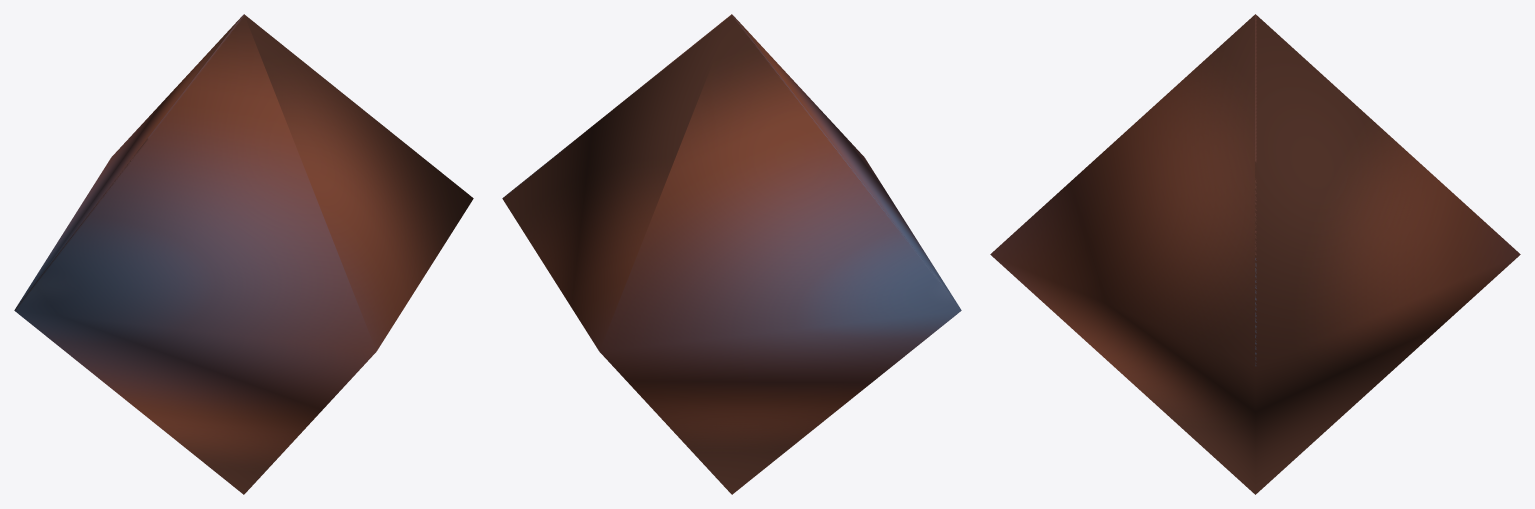
The model's file is terrain.dae.
3 renders of one model, left to right at view 1: azimuth 30°, elevation 25°; view 2: azimuth 150°, elevation 25°; view 3: azimuth 270°, elevation 25°, orthographic.
Parts seen in each view (by area): view 1: Sphere; view 2: Sphere; view 3: Sphere.
Boxes of the visible parts, x1,y1,x2,y2 form: Sphere: [14, 14, 473, 494]; Sphere: [502, 14, 961, 494]; Sphere: [990, 14, 1520, 494].
Bounding box in the file's own units: 500 × 500 × 500.
2 materials, 2 textured.
